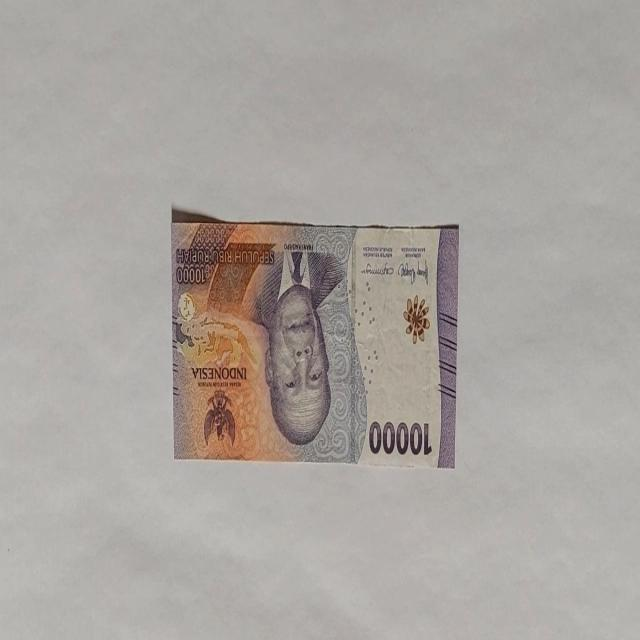Kertas: (171, 210, 459, 468)
